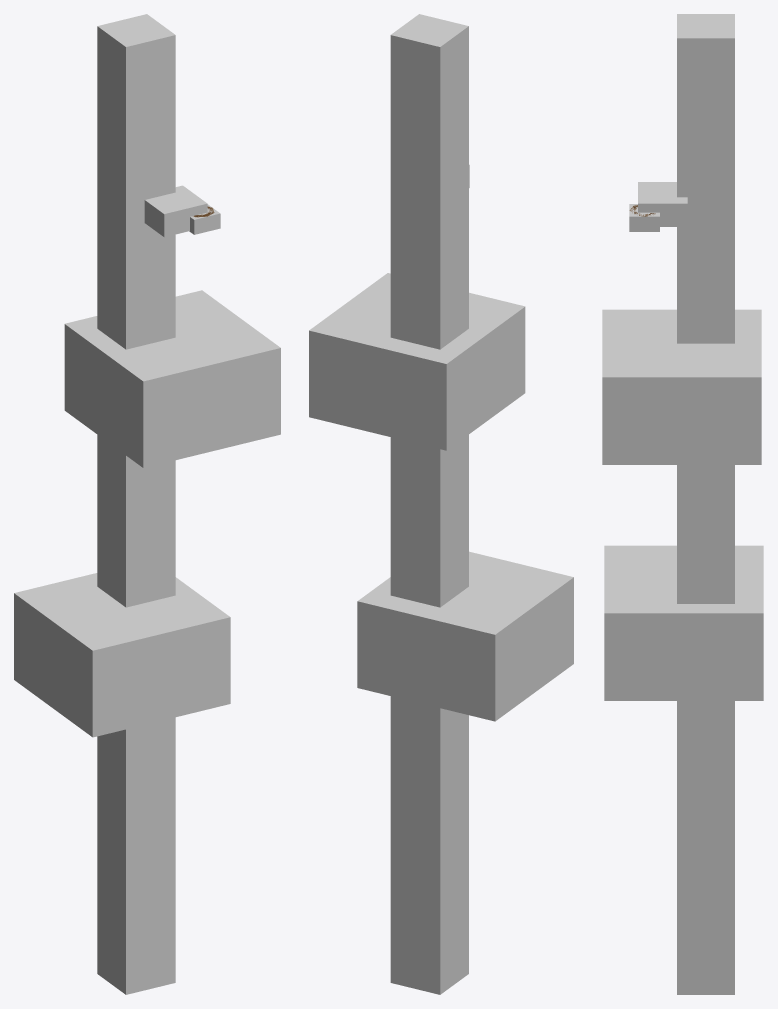
The model's file is village_signpost.glb.
The picture shows the model from 3 angles, left to right: view 1: azimuth 30°, elevation 25°; view 2: azimuth 150°, elevation 25°; view 3: azimuth 270°, elevation 25°; orthographic projection.
Parts seen in each view (by area): view 1: COL_village_signpost_00, COL_village_signpost_02, COL_village_signpost_01, COL_village_signpost_03, COL_village_signpost_04; view 2: COL_village_signpost_00, COL_village_signpost_02, COL_village_signpost_01; view 3: COL_village_signpost_00, COL_village_signpost_01, COL_village_signpost_02, COL_village_signpost_03, COL_village_signpost_04.
Part boxes in pixels (<box>): COL_village_signpost_00: <box>97,14,175,994</box>; COL_village_signpost_02: <box>14,573,230,737</box>; COL_village_signpost_01: <box>64,290,280,467</box>; COL_village_signpost_03: <box>144,185,207,237</box>; COL_village_signpost_04: <box>189,204,220,234</box>; COL_village_signpost_00: <box>390,14,468,994</box>; COL_village_signpost_02: <box>357,551,573,721</box>; COL_village_signpost_01: <box>309,273,525,450</box>; COL_village_signpost_00: <box>677,14,734,994</box>; COL_village_signpost_01: <box>602,309,761,464</box>; COL_village_signpost_02: <box>604,545,763,700</box>; COL_village_signpost_03: <box>638,182,687,226</box>; COL_village_signpost_04: <box>629,204,659,231</box>.
Size of the model in its own units: 0.4555 by 2.2 by 0.3363.
Materials: 1 (1 with a texture image).
